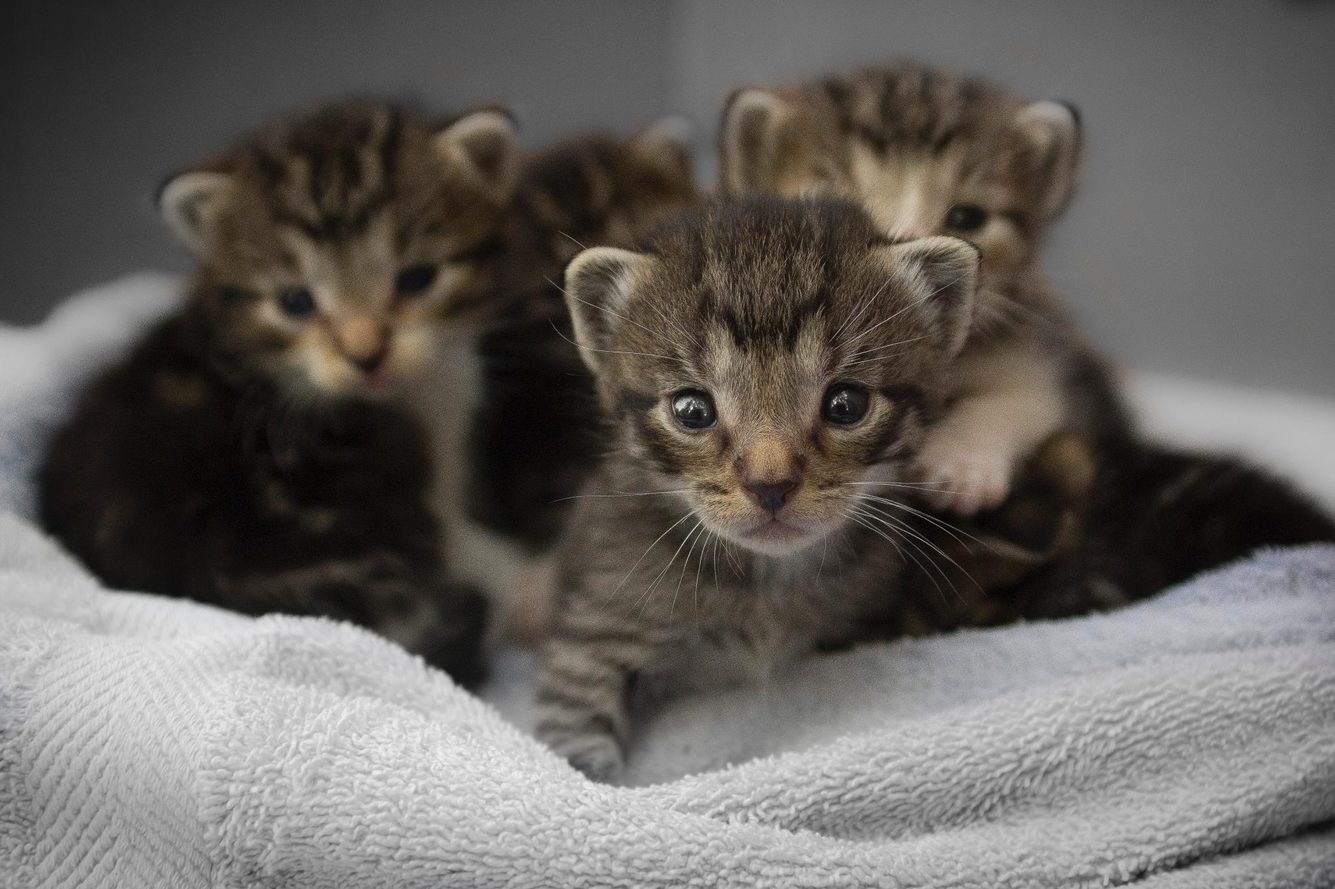cat: (530, 181, 1333, 787)
